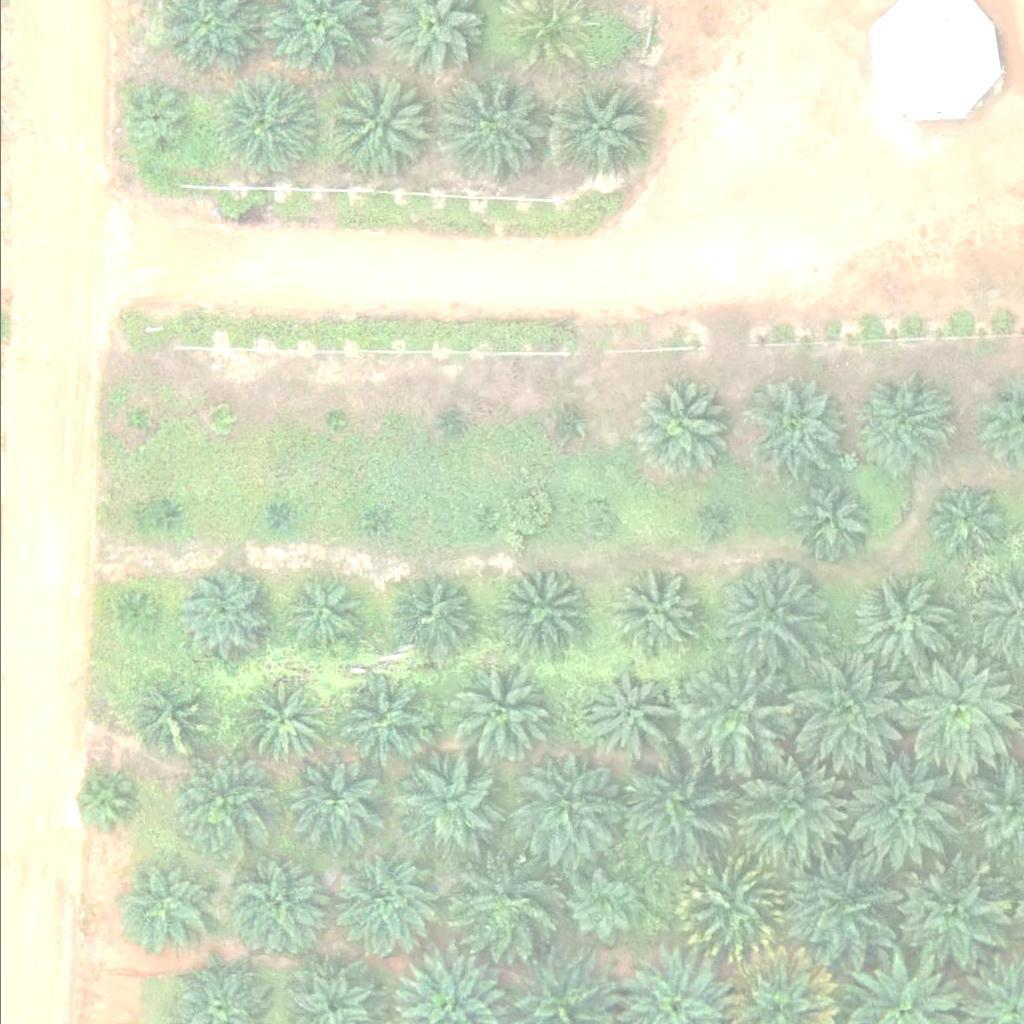Kelapa_Sawit: (713, 556, 827, 669), (901, 859, 1014, 972), (783, 858, 896, 971), (673, 849, 786, 962), (785, 656, 899, 768), (615, 750, 729, 862), (512, 754, 626, 866), (679, 659, 793, 771), (896, 655, 1009, 767), (844, 758, 957, 870), (729, 747, 842, 859), (165, 556, 278, 668), (436, 75, 549, 187), (854, 369, 955, 469), (396, 753, 497, 853), (447, 662, 548, 762), (335, 670, 436, 770), (743, 377, 844, 477), (635, 375, 736, 475), (168, 757, 269, 857), (223, 851, 324, 951), (113, 856, 214, 956), (548, 77, 649, 177), (849, 574, 949, 674), (453, 858, 553, 958), (332, 851, 432, 951), (329, 72, 429, 172), (215, 77, 315, 177), (278, 574, 367, 662), (387, 571, 475, 659), (235, 680, 323, 768), (283, 760, 371, 847), (582, 672, 670, 759), (615, 572, 703, 659), (493, 565, 581, 652), (786, 478, 874, 565), (117, 83, 193, 158), (926, 485, 1002, 560), (566, 867, 642, 942), (130, 687, 205, 762), (69, 766, 132, 829), (573, 503, 611, 541), (118, 596, 156, 634), (701, 516, 726, 541), (471, 512, 496, 537), (355, 506, 380, 531), (551, 412, 576, 437), (438, 412, 463, 437), (320, 408, 345, 433), (208, 404, 233, 429), (124, 407, 149, 432), (266, 507, 291, 532), (156, 500, 181, 525)
